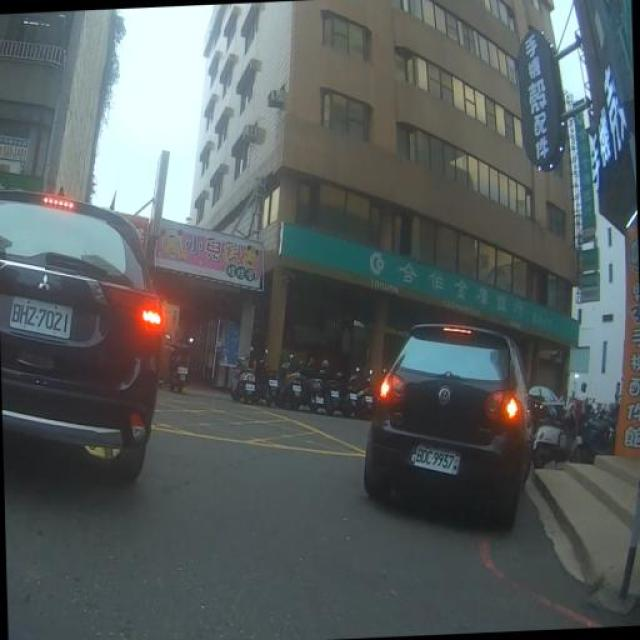illegalparking: (366, 295, 559, 558)
